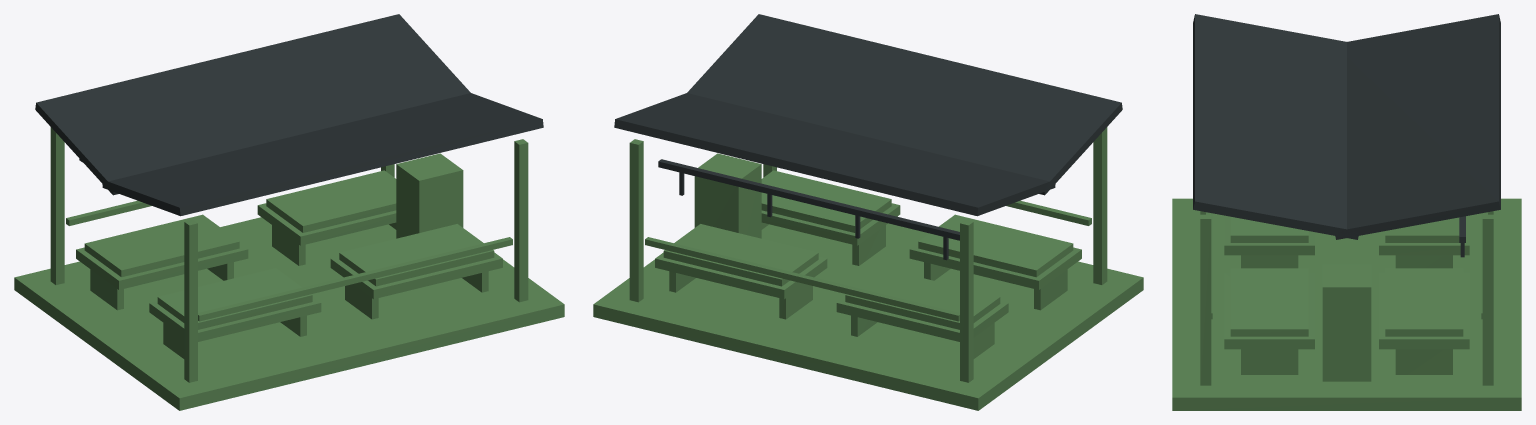
File: Tree-Nursery.glb
The picture shows the model from 3 angles, left to right: view 1: azimuth 30°, elevation 25°; view 2: azimuth 150°, elevation 25°; view 3: azimuth 270°, elevation 25°; orthographic projection. The views are drawn at different scales.
Visible parts, largest first — view 1: tree-nursery-static-tree-nursery-charcoal-roof-pipe, tree-nursery-static-tree-nursery-pale-stone-slab, tree-nursery-static-tree-nursery-muted-green-seedling-trays, tree-nursery-static-tree-nursery-warm-timber-frame, tree-nursery-static-tree-nursery-cream-benches-cabinet; view 2: tree-nursery-static-tree-nursery-charcoal-roof-pipe, tree-nursery-static-tree-nursery-pale-stone-slab, tree-nursery-static-tree-nursery-muted-green-seedling-trays, tree-nursery-static-tree-nursery-warm-timber-frame, tree-nursery-static-tree-nursery-cream-benches-cabinet; view 3: tree-nursery-static-tree-nursery-charcoal-roof-pipe, tree-nursery-static-tree-nursery-pale-stone-slab, tree-nursery-static-tree-nursery-muted-green-seedling-trays, tree-nursery-static-tree-nursery-cream-benches-cabinet, tree-nursery-static-tree-nursery-warm-timber-frame.
Boxes of the visible parts, <box> form: tree-nursery-static-tree-nursery-charcoal-roof-pipe: <box>35,14,543,216</box>; tree-nursery-static-tree-nursery-pale-stone-slab: <box>14,217,564,410</box>; tree-nursery-static-tree-nursery-muted-green-seedling-trays: <box>84,170,494,329</box>; tree-nursery-static-tree-nursery-warm-timber-frame: <box>50,127,528,382</box>; tree-nursery-static-tree-nursery-cream-benches-cabinet: <box>76,153,502,341</box>; tree-nursery-static-tree-nursery-charcoal-roof-pipe: <box>614,14,1122,260</box>; tree-nursery-static-tree-nursery-pale-stone-slab: <box>593,223,1143,410</box>; tree-nursery-static-tree-nursery-muted-green-seedling-trays: <box>663,170,1073,329</box>; tree-nursery-static-tree-nursery-warm-timber-frame: <box>629,127,1107,382</box>; tree-nursery-static-tree-nursery-cream-benches-cabinet: <box>655,153,1081,341</box>; tree-nursery-static-tree-nursery-charcoal-roof-pipe: <box>1193,14,1500,257</box>; tree-nursery-static-tree-nursery-pale-stone-slab: <box>1172,198,1521,410</box>; tree-nursery-static-tree-nursery-muted-green-seedling-trays: <box>1230,217,1463,336</box>; tree-nursery-static-tree-nursery-cream-benches-cabinet: <box>1224,215,1469,381</box>; tree-nursery-static-tree-nursery-warm-timber-frame: <box>1200,211,1493,385</box>.
Bounding box in the file's own units: 7 × 3.35 × 5.2.
